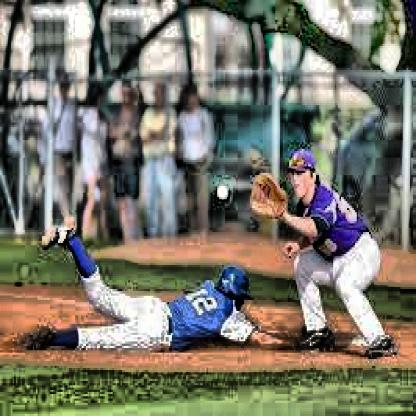baseball: (219, 185, 229, 203)
